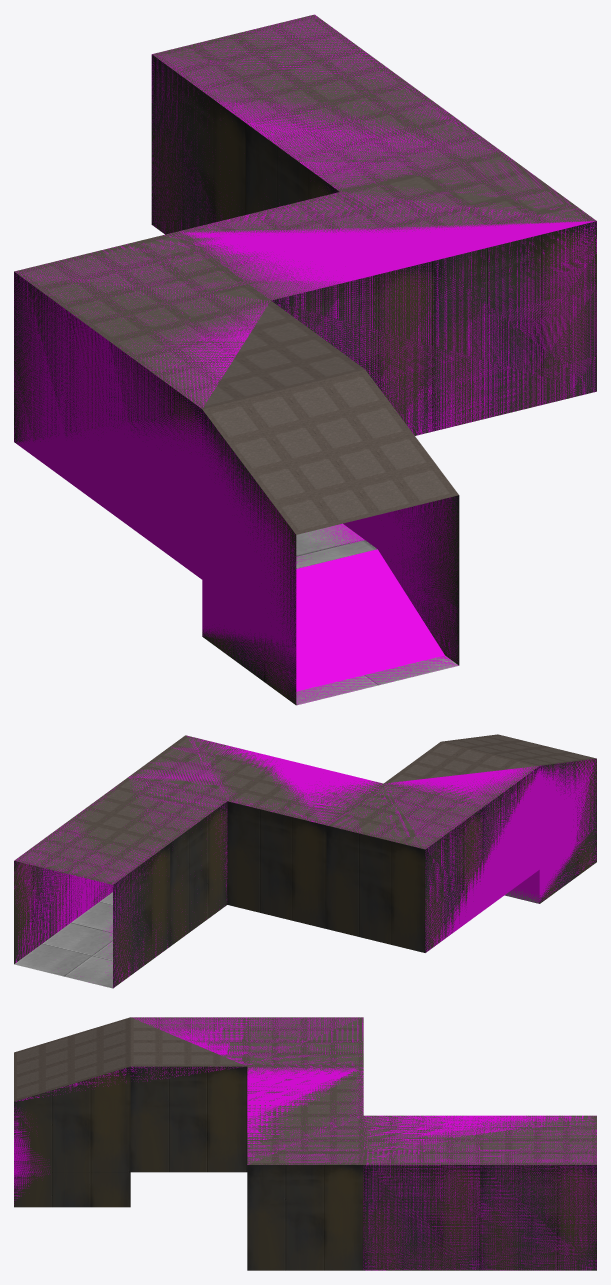
File: mint_connector2.fbx
The picture shows the model from 3 angles, top to bottom: view 1: azimuth 30°, elevation 25°; view 2: azimuth 150°, elevation 25°; view 3: azimuth 270°, elevation 25°; orthographic projection. The views are drawn at different scales.
Visible parts, largest first — view 1: wall, polySurface1, stair_collsion, floor, floorUnderStairs, stair; view 2: wall, polySurface1, floor; view 3: wall, polySurface1.
Part boxes in pixels (left/top/right/bottom): wall: left=14, top=14, right=596, bottom=704; polySurface1: left=14, top=14, right=596, bottom=702; stair_collsion: left=296, top=549, right=444, bottom=691; floor: left=296, top=524, right=458, bottom=705; floorUnderStairs: left=296, top=655, right=458, bottom=704; stair: left=296, top=540, right=377, bottom=568; wall: left=14, top=734, right=596, bottom=988; polySurface1: left=14, top=736, right=596, bottom=987; floor: left=14, top=888, right=539, bottom=988; wall: left=14, top=1017, right=596, bottom=1270; polySurface1: left=14, top=1017, right=596, bottom=1270.
Size of the model in its own units: 45 by 20 by 75.
